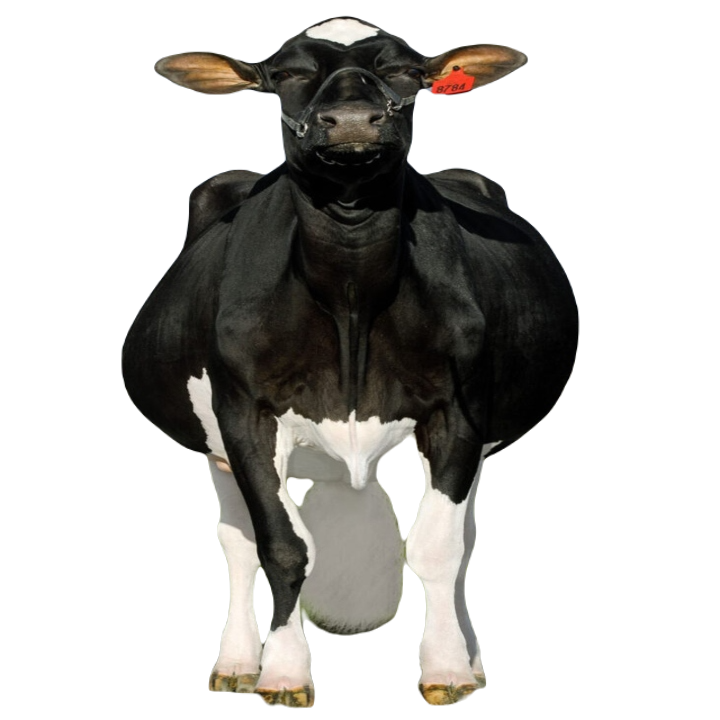Cow: (116, 15, 580, 707)
